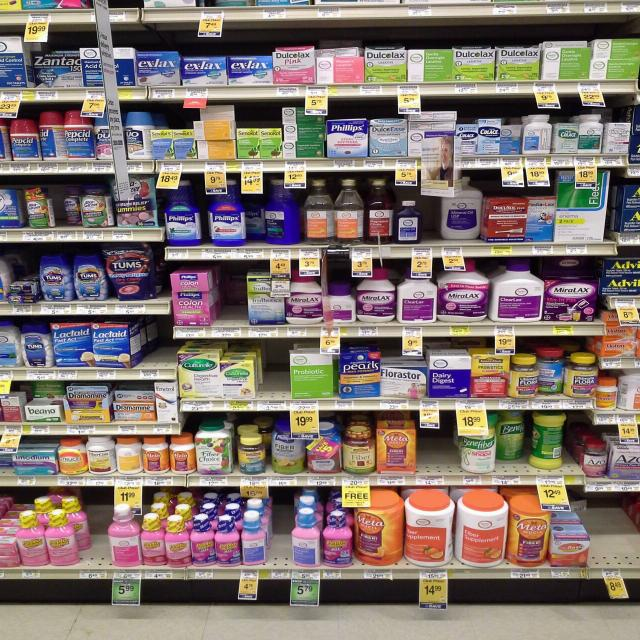void: (592, 495, 640, 597), (422, 413, 460, 485), (258, 342, 293, 411), (136, 319, 171, 380)
